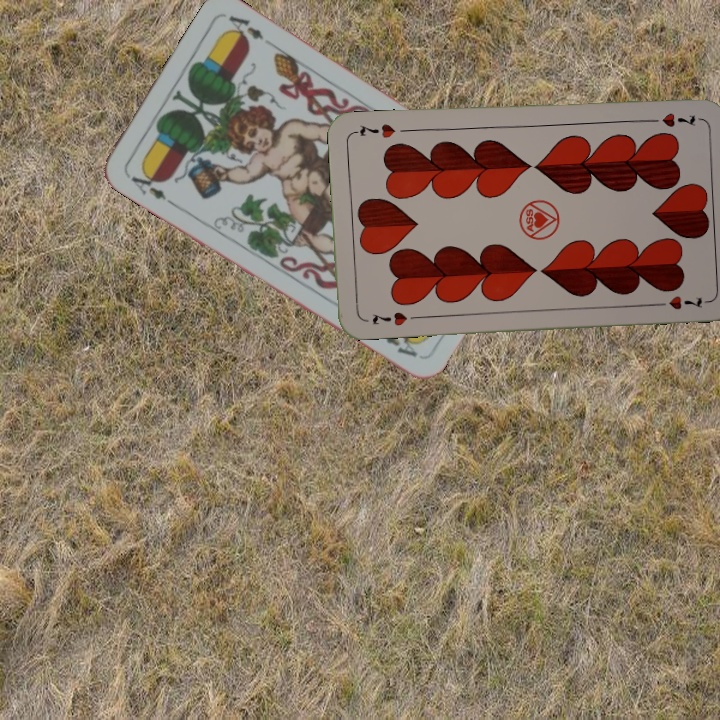EA: (126, 165, 175, 207)
H7: (642, 108, 698, 129), (368, 307, 410, 329)
